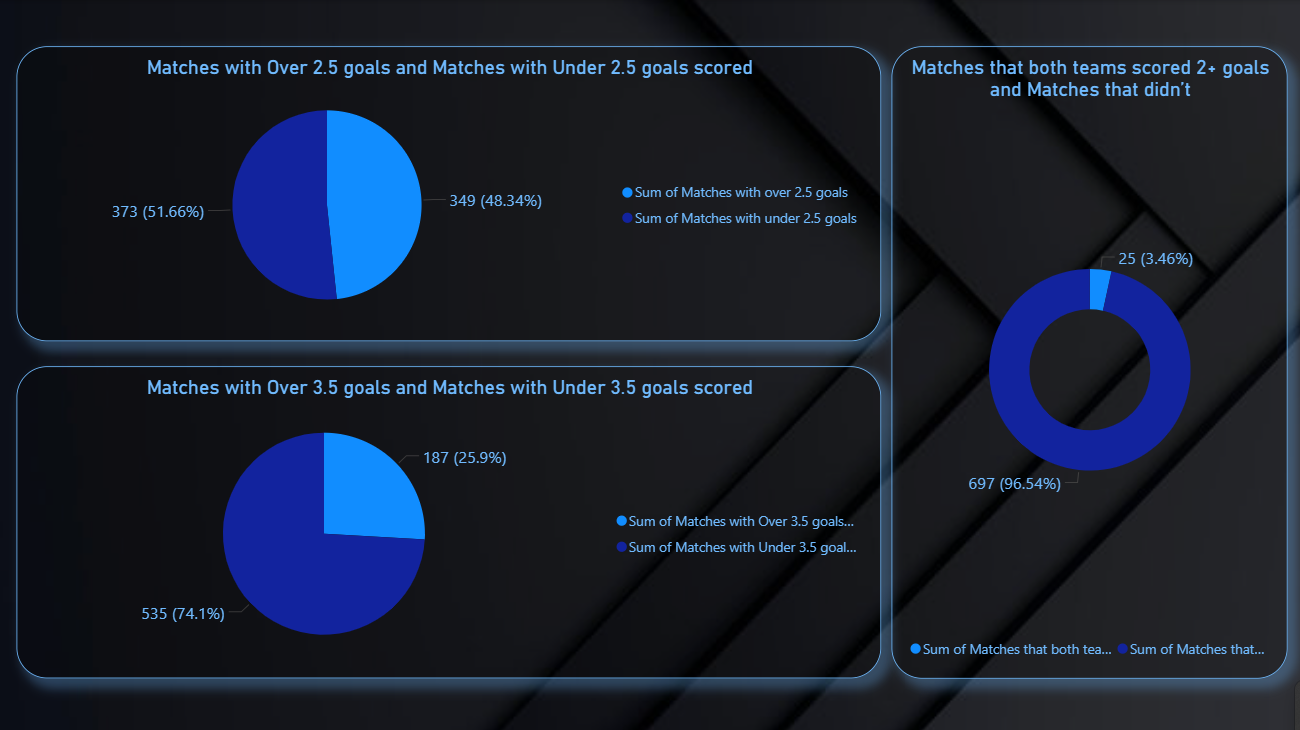

The page's visual inventory and layout, read from the dashboard file:
{"tool":"powerbi","page":{"name":"Page 2","canvas":[1280,720],"ordinal":1},"visuals":[{"type":"pieChart","title":"Matches with Over 2.5 goals and Matches with Under 2.5 goals scored","fields":{"Y":["Sum(Greek_SuperLeague_Matches.Matches with over 2.5 goals)","Sum(Greek_SuperLeague_Matches.Matches with under 2.5 goals)"]},"box":[17.2,45.4,849.1,289.6],"z":0},{"type":"pieChart","title":"Matches with Over 3.5 goals and Matches with Under 3.5 goals scored","fields":{"Y":["Sum(Greek_SuperLeague_Matches.Matches with Over 3.5 goals scored)","Sum(Greek_SuperLeague_Matches.Matches with Under 3.5 goals scored)"]},"box":[17.2,359.5,849.1,306.8],"z":1},{"type":"donutChart","title":"Matches that both teams scored 2+ goals and Matches that didn’t","fields":{"Y":["Sum(Greek_SuperLeague_Matches.Matches that both teams scored 2+ goals)","Sum(Greek_SuperLeague_Matches.Matches that didn’t score both teams 2+ goals)"]},"box":[876.1,45.4,389,620.9],"z":2}]}

Visuals, with their boxes in screenshot pixels (x1, y1, x2, y2), scaled from the page's 1280x720 canvas onto the 1300x730 screenshot:
"Matches with Over 2.5 goals and Matches with Under 2.5 goals scored" pieChart: (x1=17, y1=46, x2=880, y2=340)
"Matches with Over 3.5 goals and Matches with Under 3.5 goals scored" pieChart: (x1=17, y1=364, x2=880, y2=676)
"Matches that both teams scored 2+ goals and Matches that didn’t" donutChart: (x1=890, y1=46, x2=1285, y2=676)
